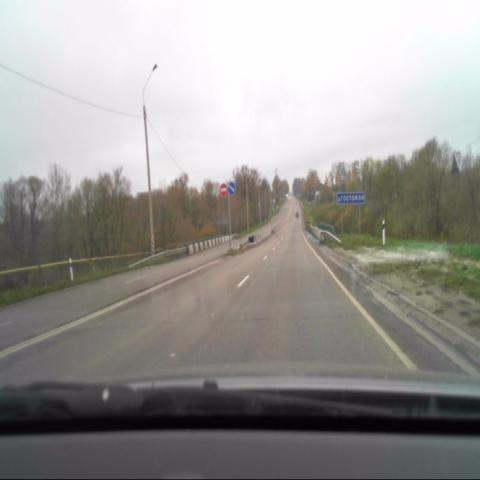3_1: (220, 182, 228, 196)
4_2_1: (228, 181, 236, 196)
